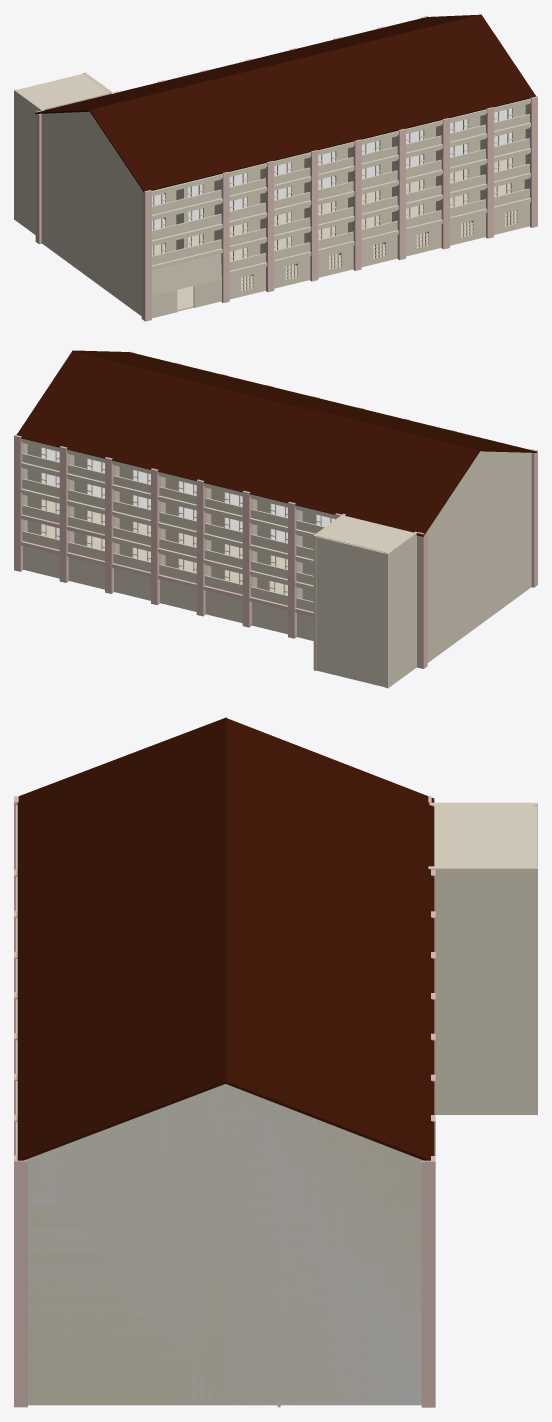
Rendered from house7.fbx.
The picture shows the model from 3 angles, top to bottom: view 1: azimuth 30°, elevation 25°; view 2: azimuth 150°, elevation 25°; view 3: azimuth 270°, elevation 25°; orthographic projection. The views are drawn at different scales.
Visible parts, largest first — view 1: 立方体.1886; view 2: 立方体.1886; view 3: 立方体.1886.
Part boxes in pixels (box(x1,y1,x2,y2)): 立方体.1886: box(14, 14, 537, 321); 立方体.1886: box(14, 350, 537, 688); 立方体.1886: box(14, 717, 537, 1407).
Size of the model in its own units: 24738 by 10368 by 15027.
